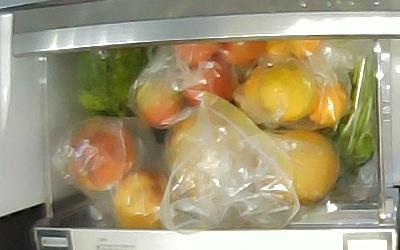peach_vinyl: (67, 117, 136, 190), (114, 169, 167, 230)
pear_vinyl: (263, 130, 340, 203), (170, 116, 238, 195)
tangerine_vinyl: (261, 64, 317, 121), (244, 64, 278, 115), (309, 80, 346, 124), (266, 40, 322, 62)
tomato_vinyl: (136, 80, 183, 128), (182, 61, 232, 106), (174, 42, 221, 67), (219, 40, 266, 64)
